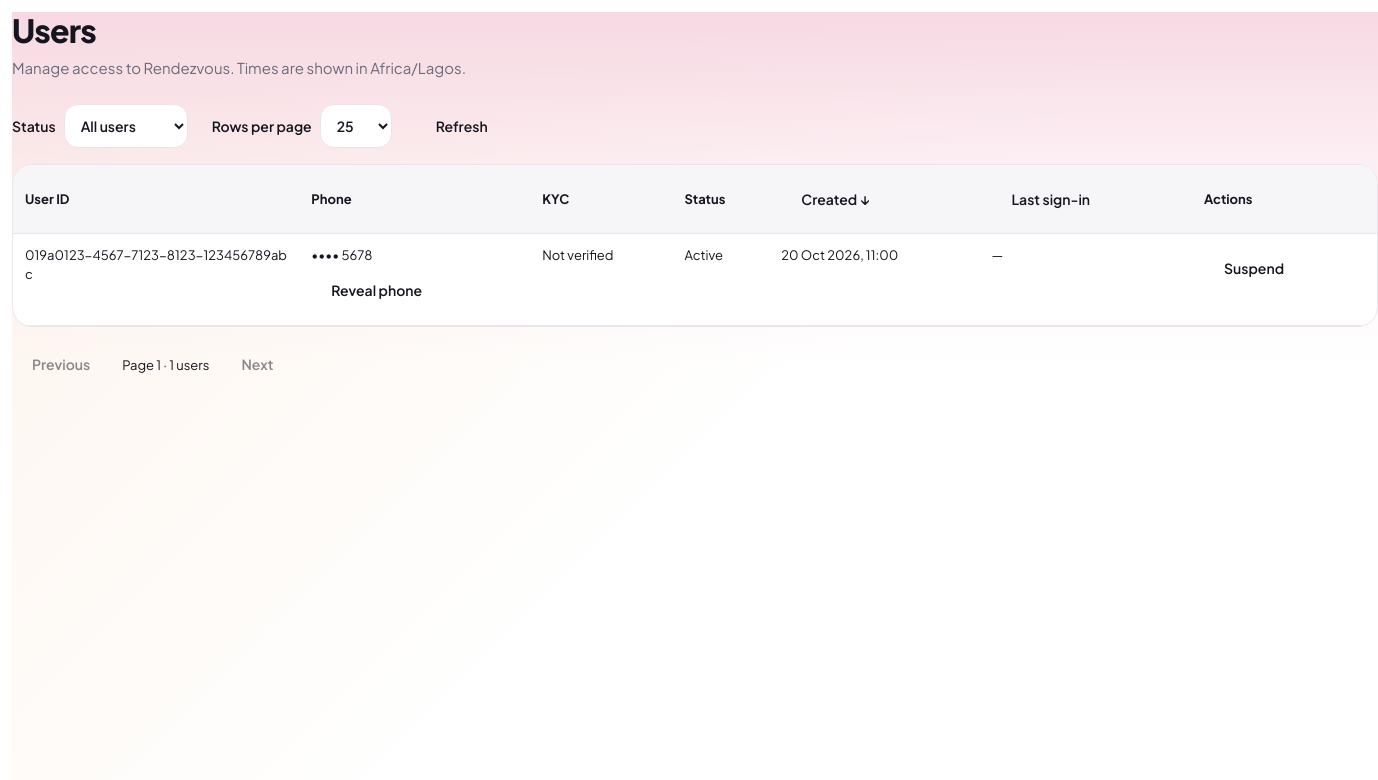
Test: users console › keeps the reason and confirmation visible after failure
The image size is (1378, 780).
Click the button "Suspend": (1254,268) [1204,246,1304,290]
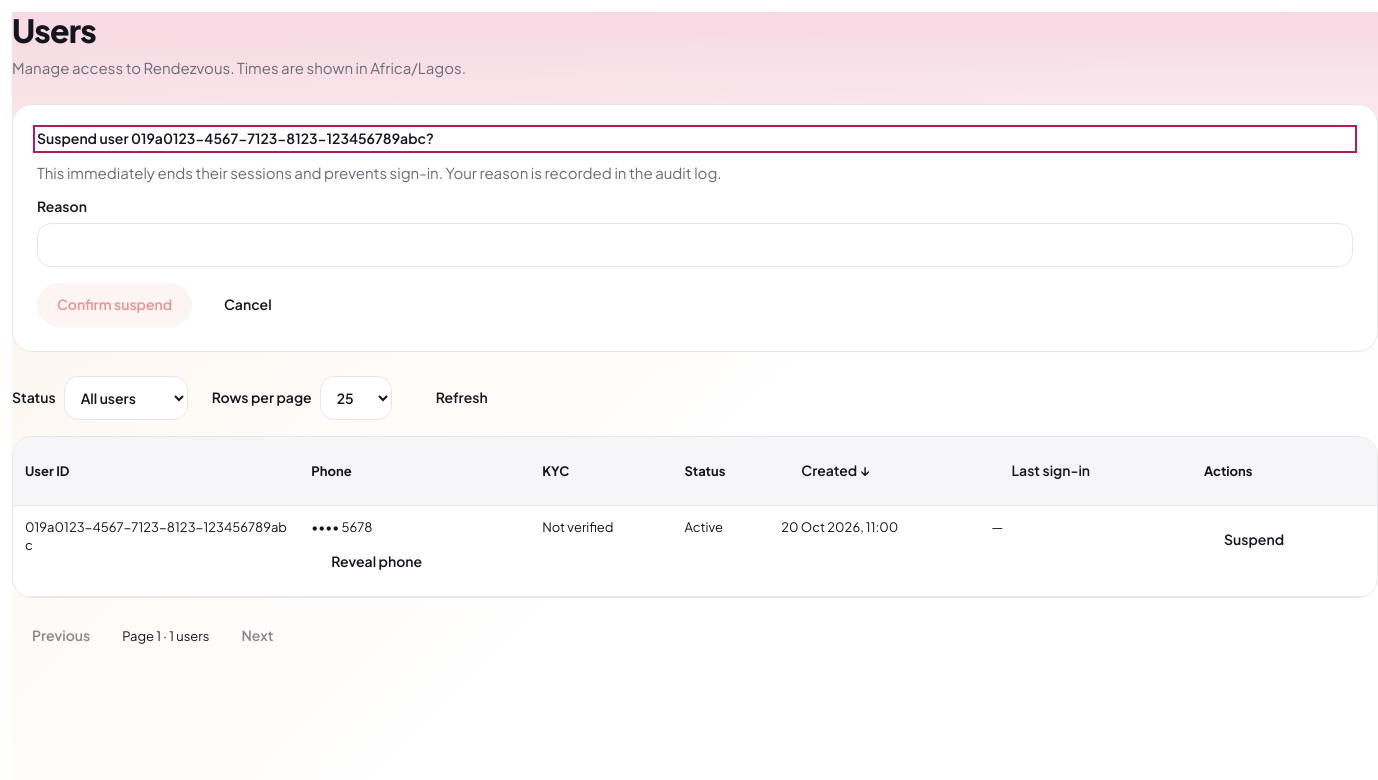
In the field labelled "Reason": (695,245) [37,223,1353,267], type "Safety review"
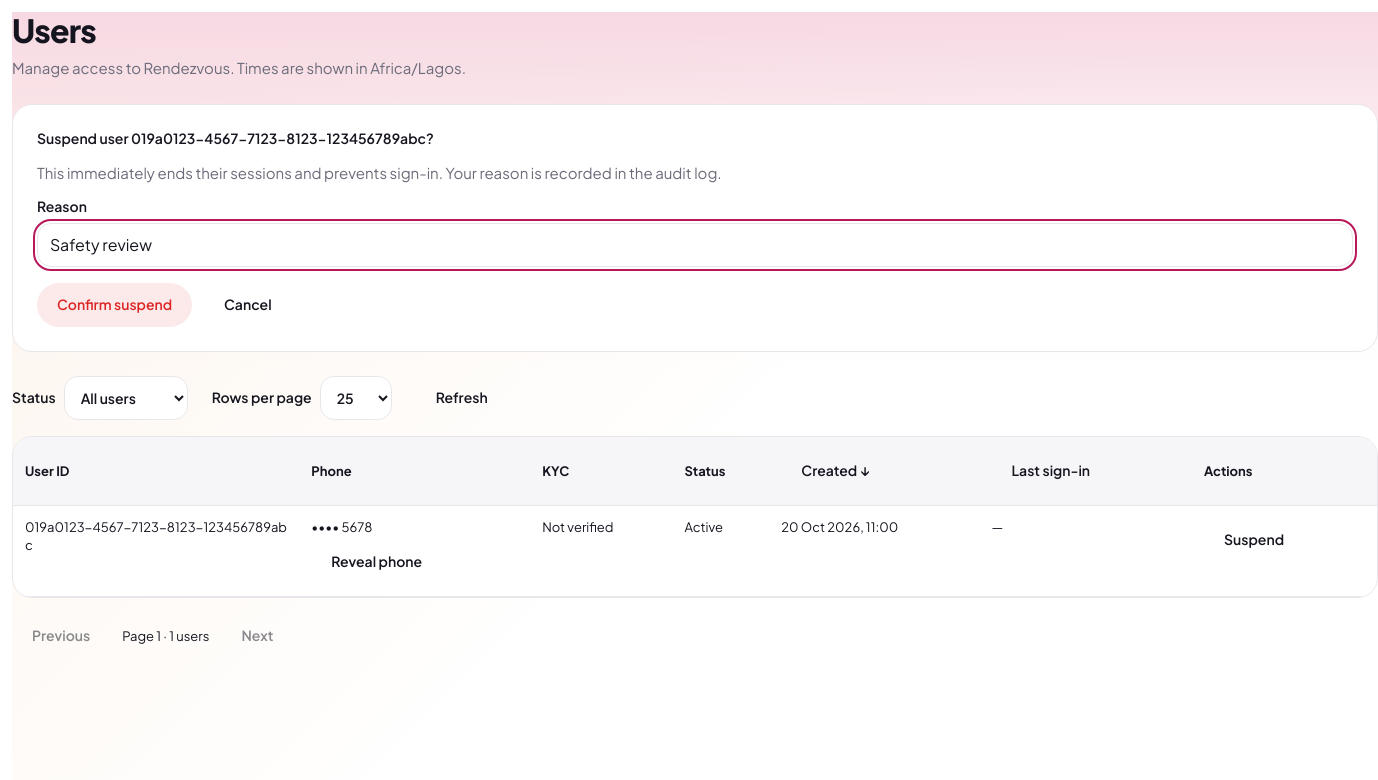
Click the button "Confirm suspend": (115,305) [37,283,192,327]
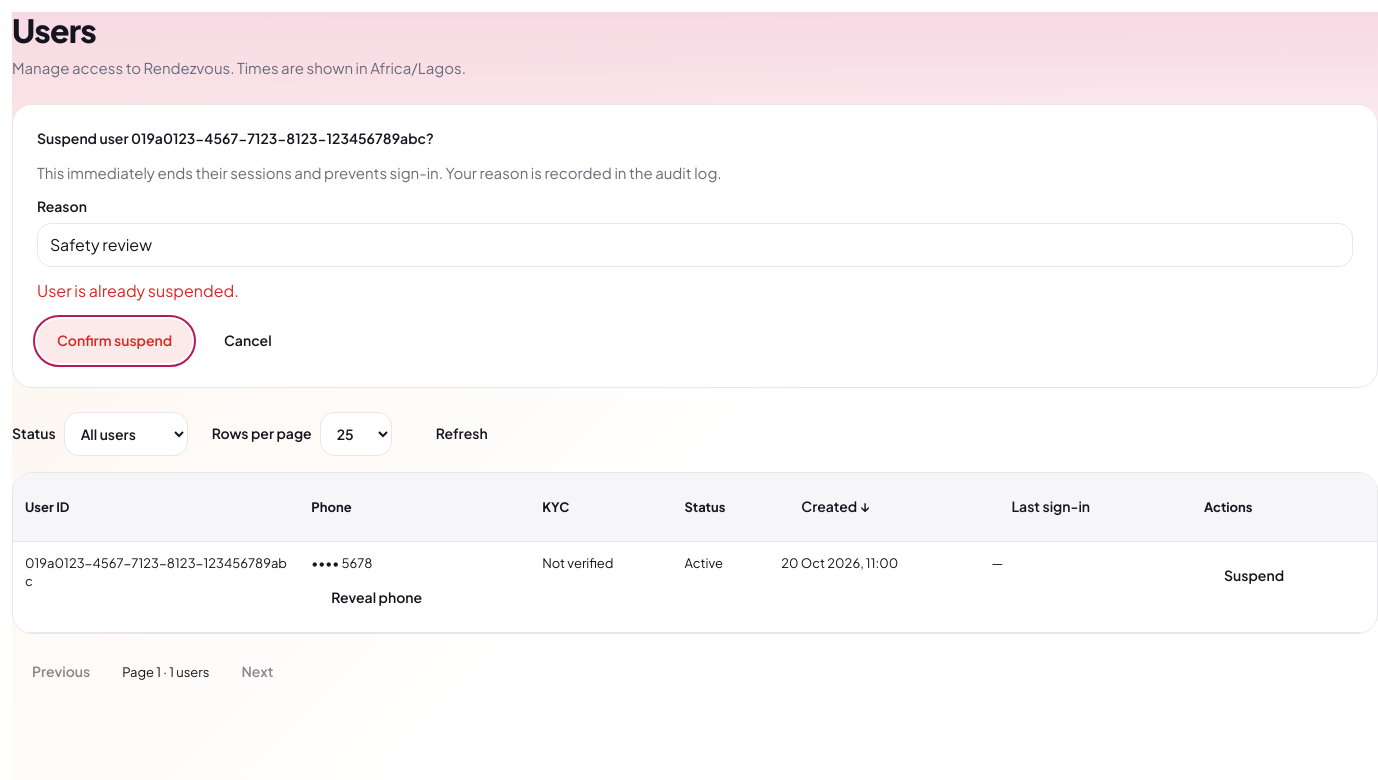
Expected: the message reads "User is already suspended.", [37,280,239,301]
